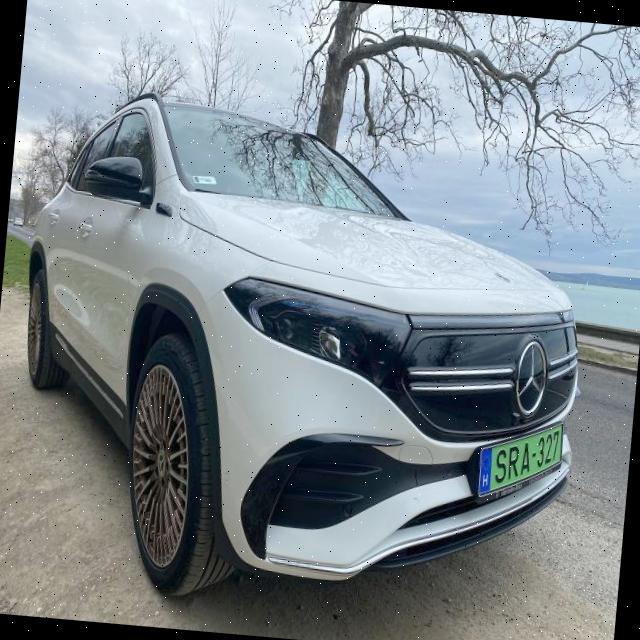licence: (477, 411, 568, 508)
